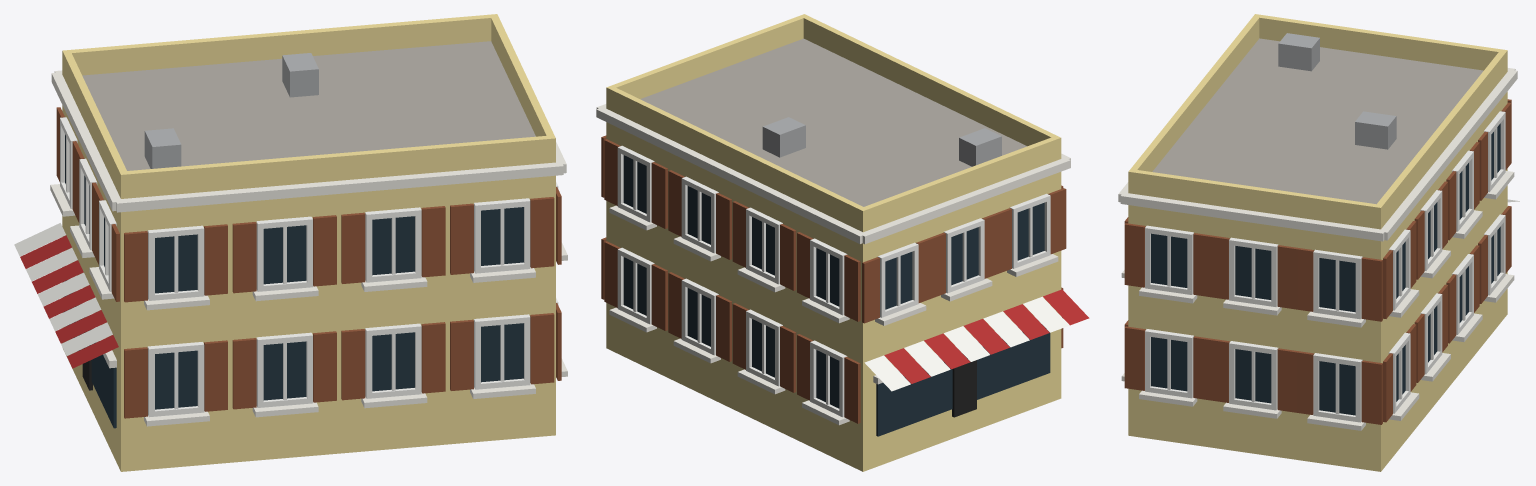
3 views of the same model, side by side, from view 1: azimuth 30°, elevation 25°; view 2: azimuth 150°, elevation 25°; view 3: azimuth 270°, elevation 25° (orthographic). The views are drawn at different scales.
Visible parts, largest first — view 1: b7303; view 2: b7303; view 3: b7303.
Boxes of the visible parts, left/top/right/bottom form: b7303: left=14, top=14, right=567, bottom=471; b7303: left=596, top=14, right=1089, bottom=471; b7303: left=1118, top=14, right=1519, bottom=471.
Size of the model in its own units: 5825 by 3354 by 4602.
